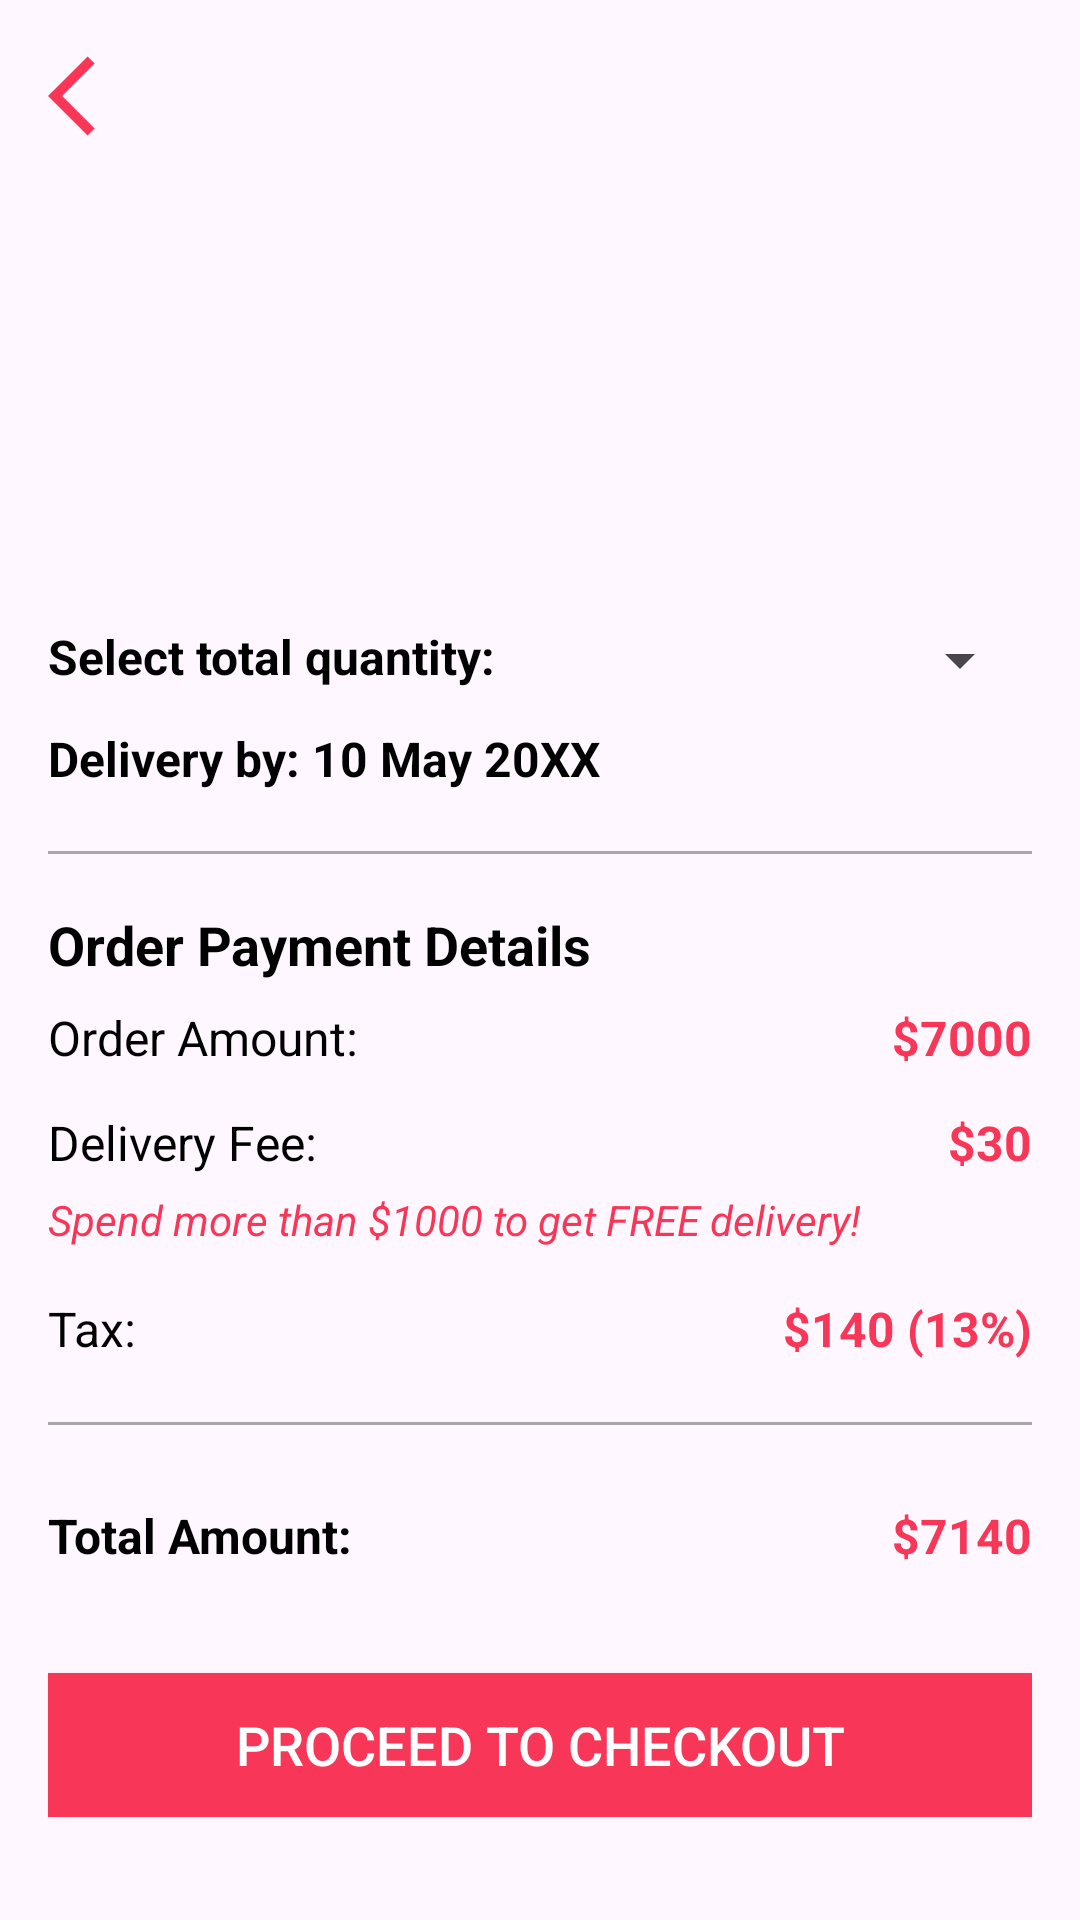

Point at icon controls on the screen. Image size 1080 × 1920, points as (x,y).
back arrow: (71,96)
